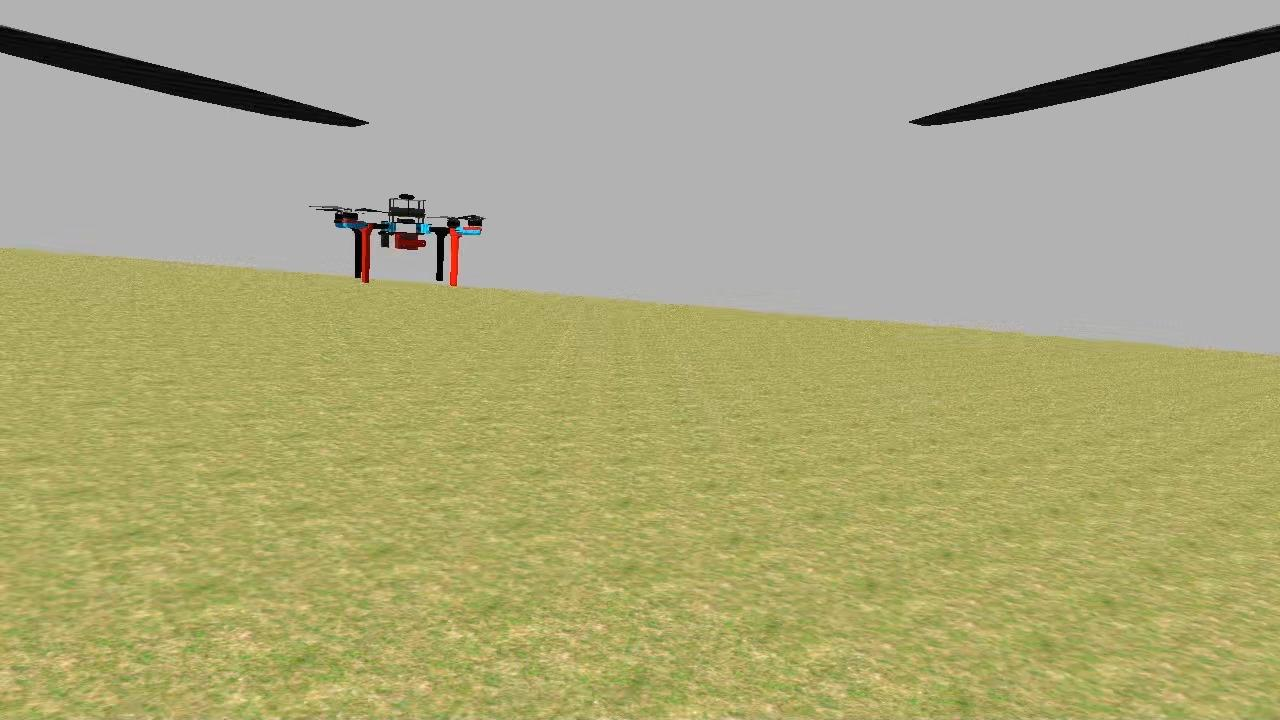UAV: (326, 187, 490, 297)
